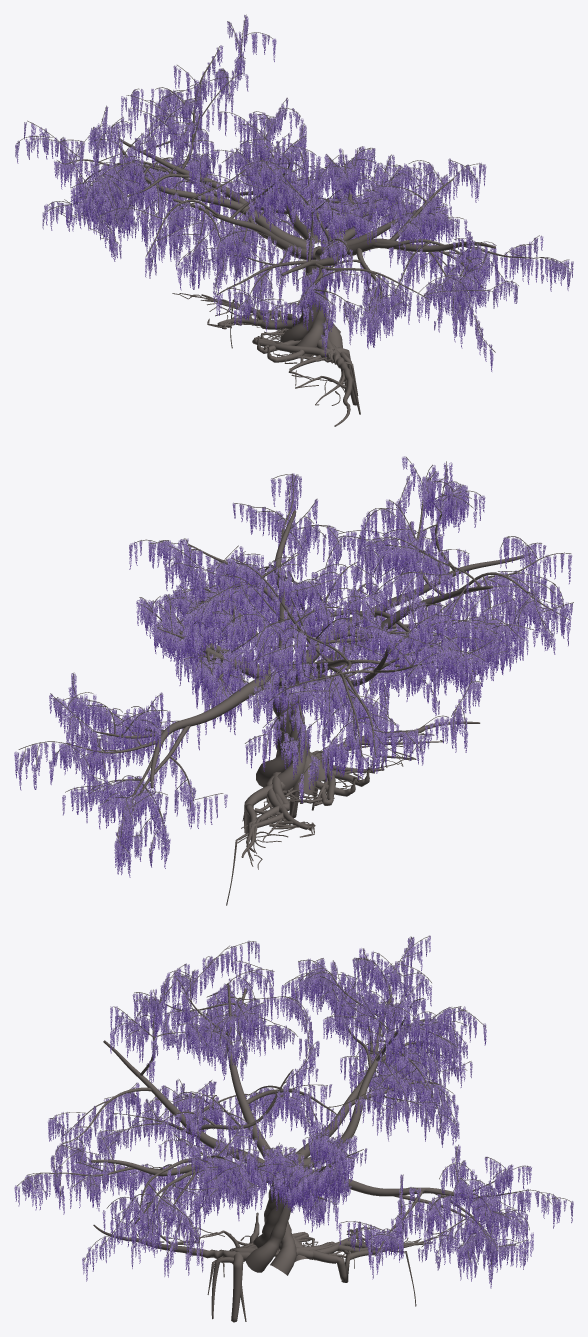
The model's file is wisteria_4.glb.
The picture shows the model from 3 angles, top to bottom: view 1: azimuth 30°, elevation 25°; view 2: azimuth 150°, elevation 25°; view 3: azimuth 270°, elevation 25°; orthographic projection. The views are drawn at different scales.
Parts seen in each view (by area): view 1: Wisteria4_Blossom, Wisteria4_Bark; view 2: Wisteria4_Blossom, Wisteria4_Bark; view 3: Wisteria4_Blossom, Wisteria4_Bark.
Part boxes in pixels (x1,y1,x2,y2): Wisteria4_Blossom: (15, 15, 573, 371); Wisteria4_Bark: (17, 14, 570, 426); Wisteria4_Blossom: (14, 456, 572, 877); Wisteria4_Bark: (18, 456, 573, 905); Wisteria4_Blossom: (14, 935, 573, 1288); Wisteria4_Bark: (17, 936, 571, 1322).
Bounding box in the file's own units: 37.79 × 29.64 × 46.65.
2 materials, 1 textured.
